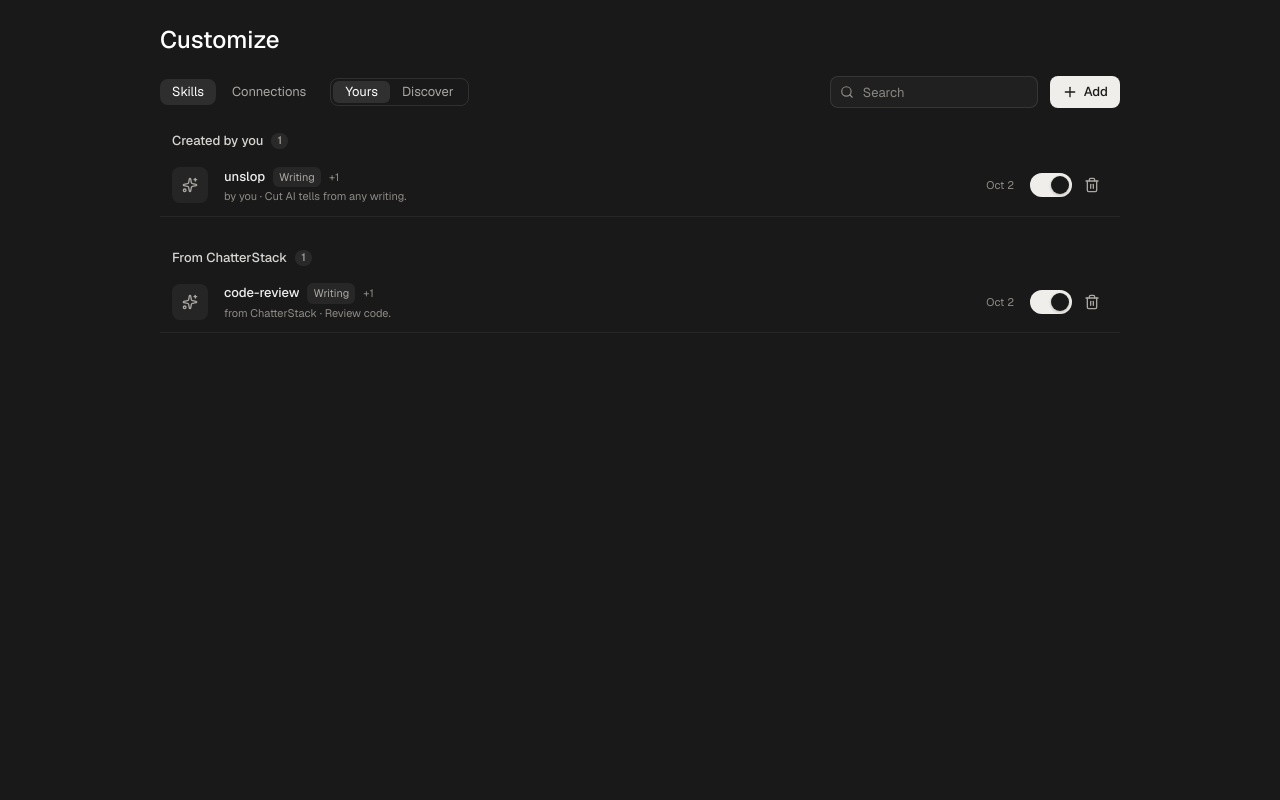
Customize → Skills → Yours › turns a skill off and removes one after confirming
Click the switch named "Enable unslop" at (1051, 185), box [1030, 169, 1072, 201]
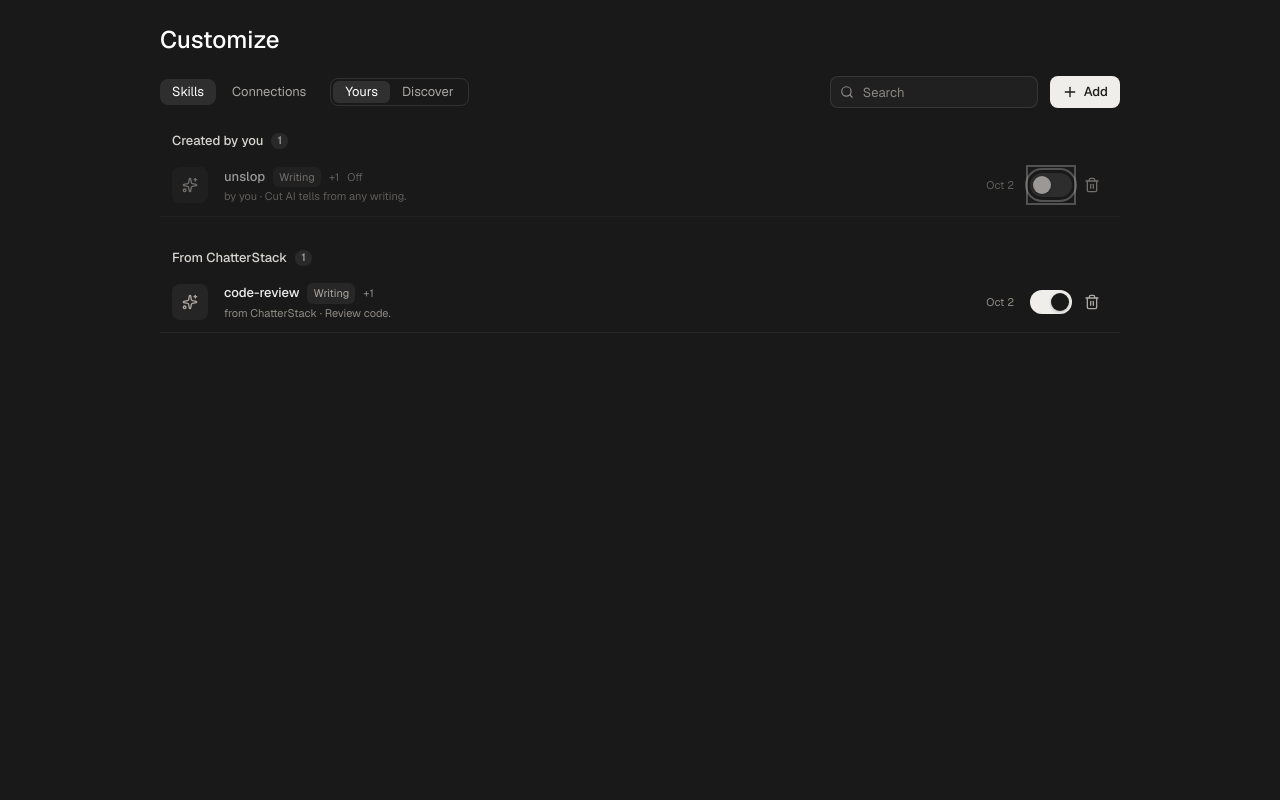
Expected: the switch named "Enable unslop" is not checked, [1030, 169, 1072, 201]
Click the button named "Remove code-review" at (1092, 302), box [1076, 286, 1108, 318]
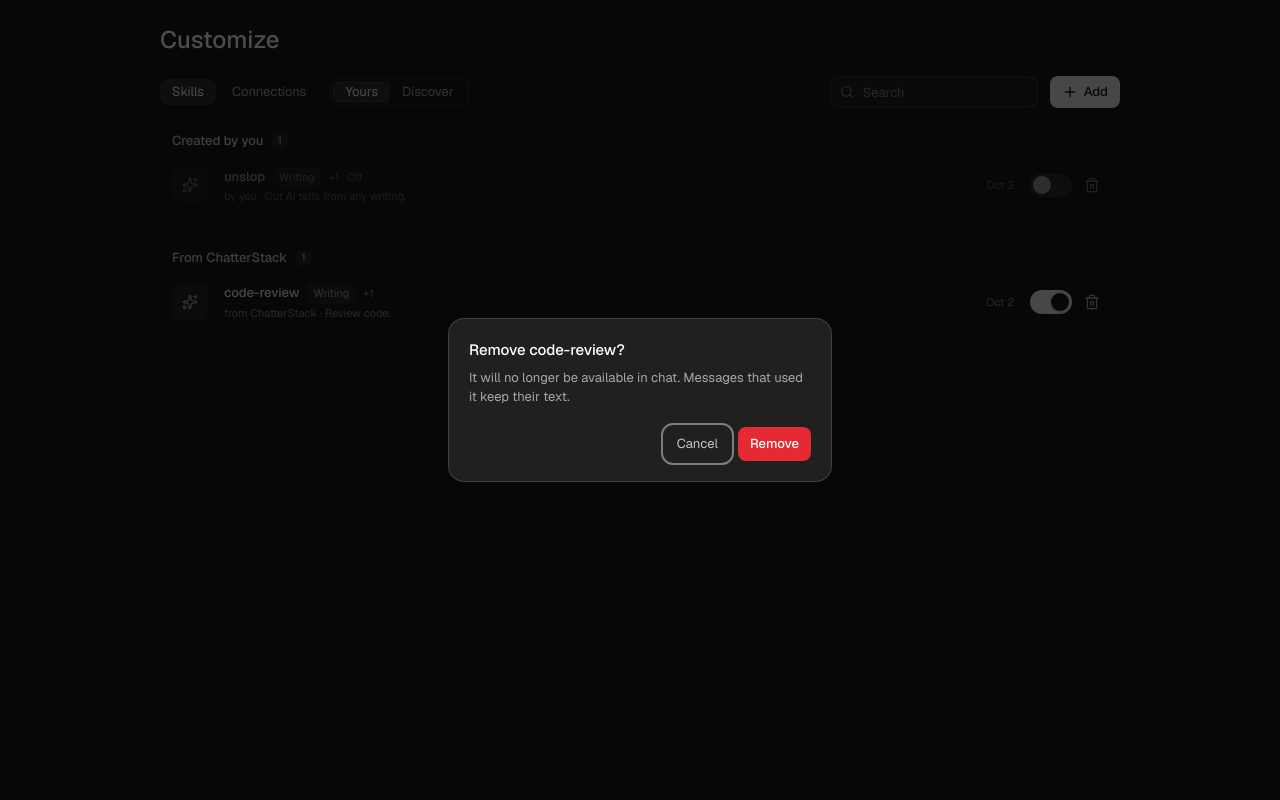
Click the button "Remove" at (774, 444), box [738, 426, 811, 461]
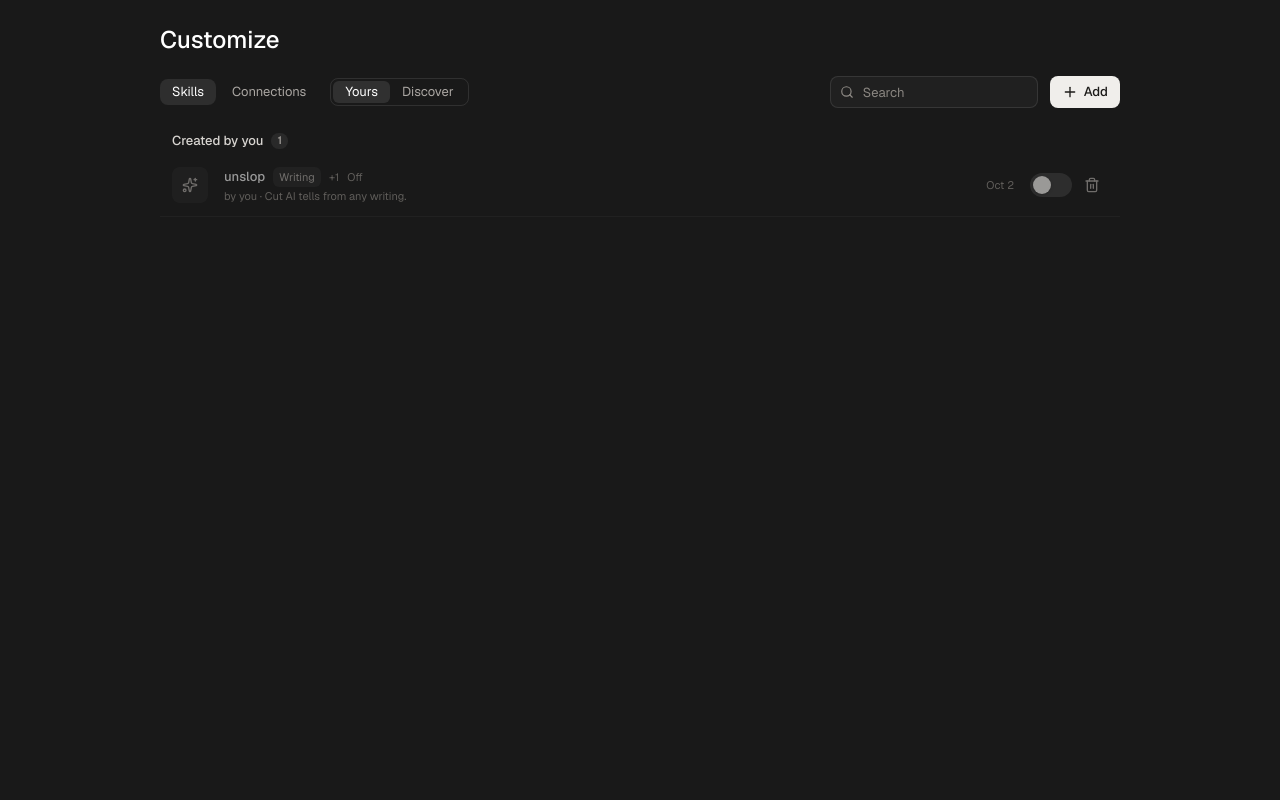
Expected: the heading "From ChatterStack" is gone
